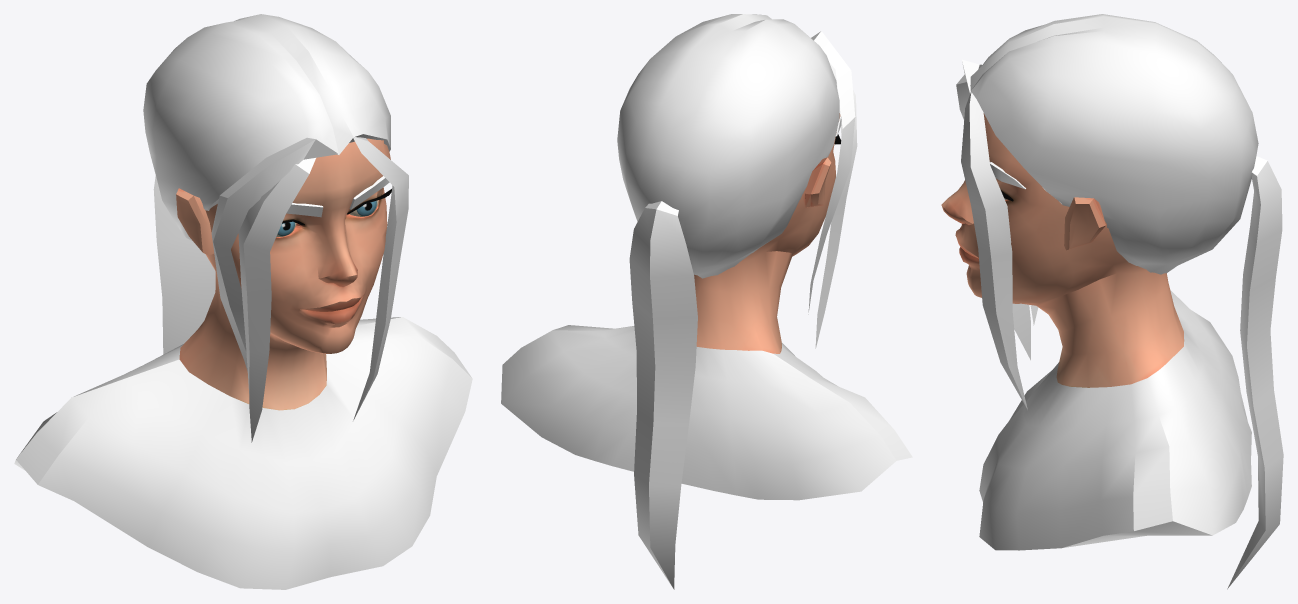
File: Female_Avatar_1.fbx
3 views of the same model, side by side, from view 1: azimuth 30°, elevation 25°; view 2: azimuth 150°, elevation 25°; view 3: azimuth 270°, elevation 25° (orthographic). The views are drawn at different scales.
Parts seen in each view (by area): view 1: Female Head, Hair_Pony, Eyebrow; view 2: Hair_Pony, Female Head; view 3: Hair_Pony, Female Head.
Part boxes in pixels (x1,y1,x2,y2): Female Head: (14, 138, 472, 589); Hair_Pony: (143, 14, 408, 442); Eyebrow: (286, 176, 389, 217); Hair_Pony: (617, 14, 857, 589); Female Head: (501, 113, 912, 500); Hair_Pony: (956, 14, 1283, 589); Female Head: (941, 113, 1251, 550).
Size of the model in its own units: 49.86 by 62.97 by 34.53.
3 materials, 1 textured.
